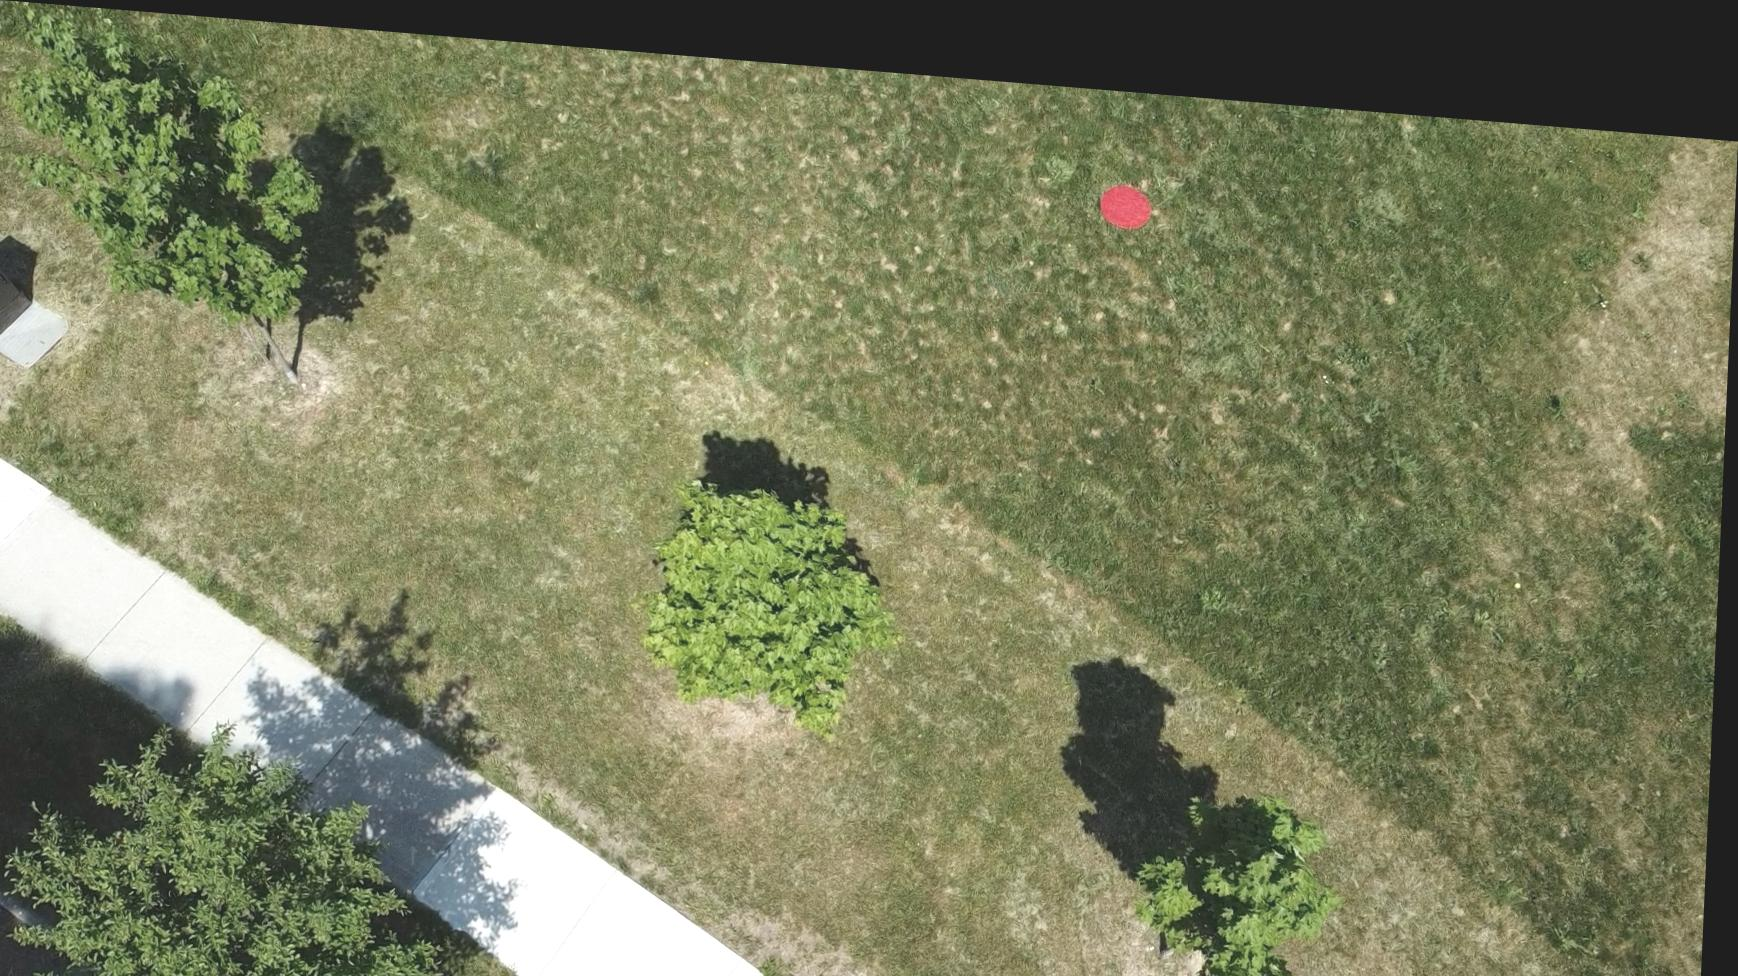Red: (1097, 161, 1155, 212)
